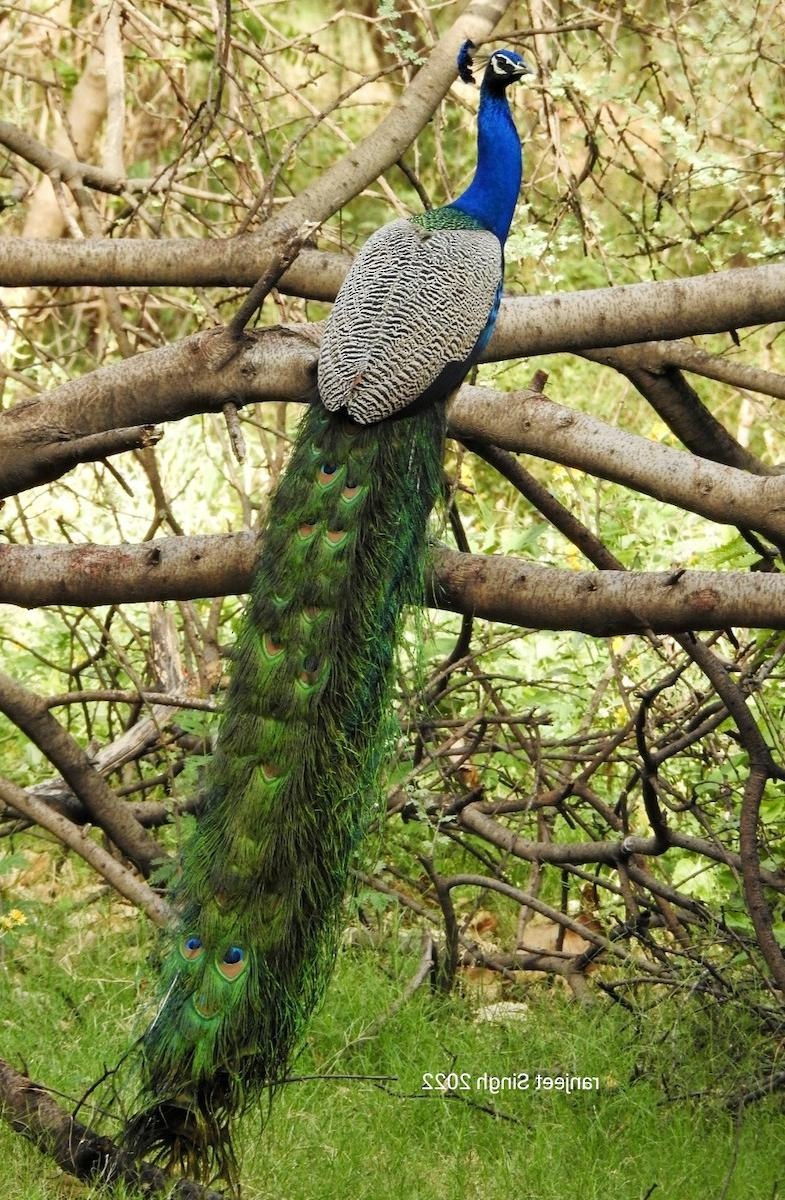peacock: (1, 28, 589, 1200)
